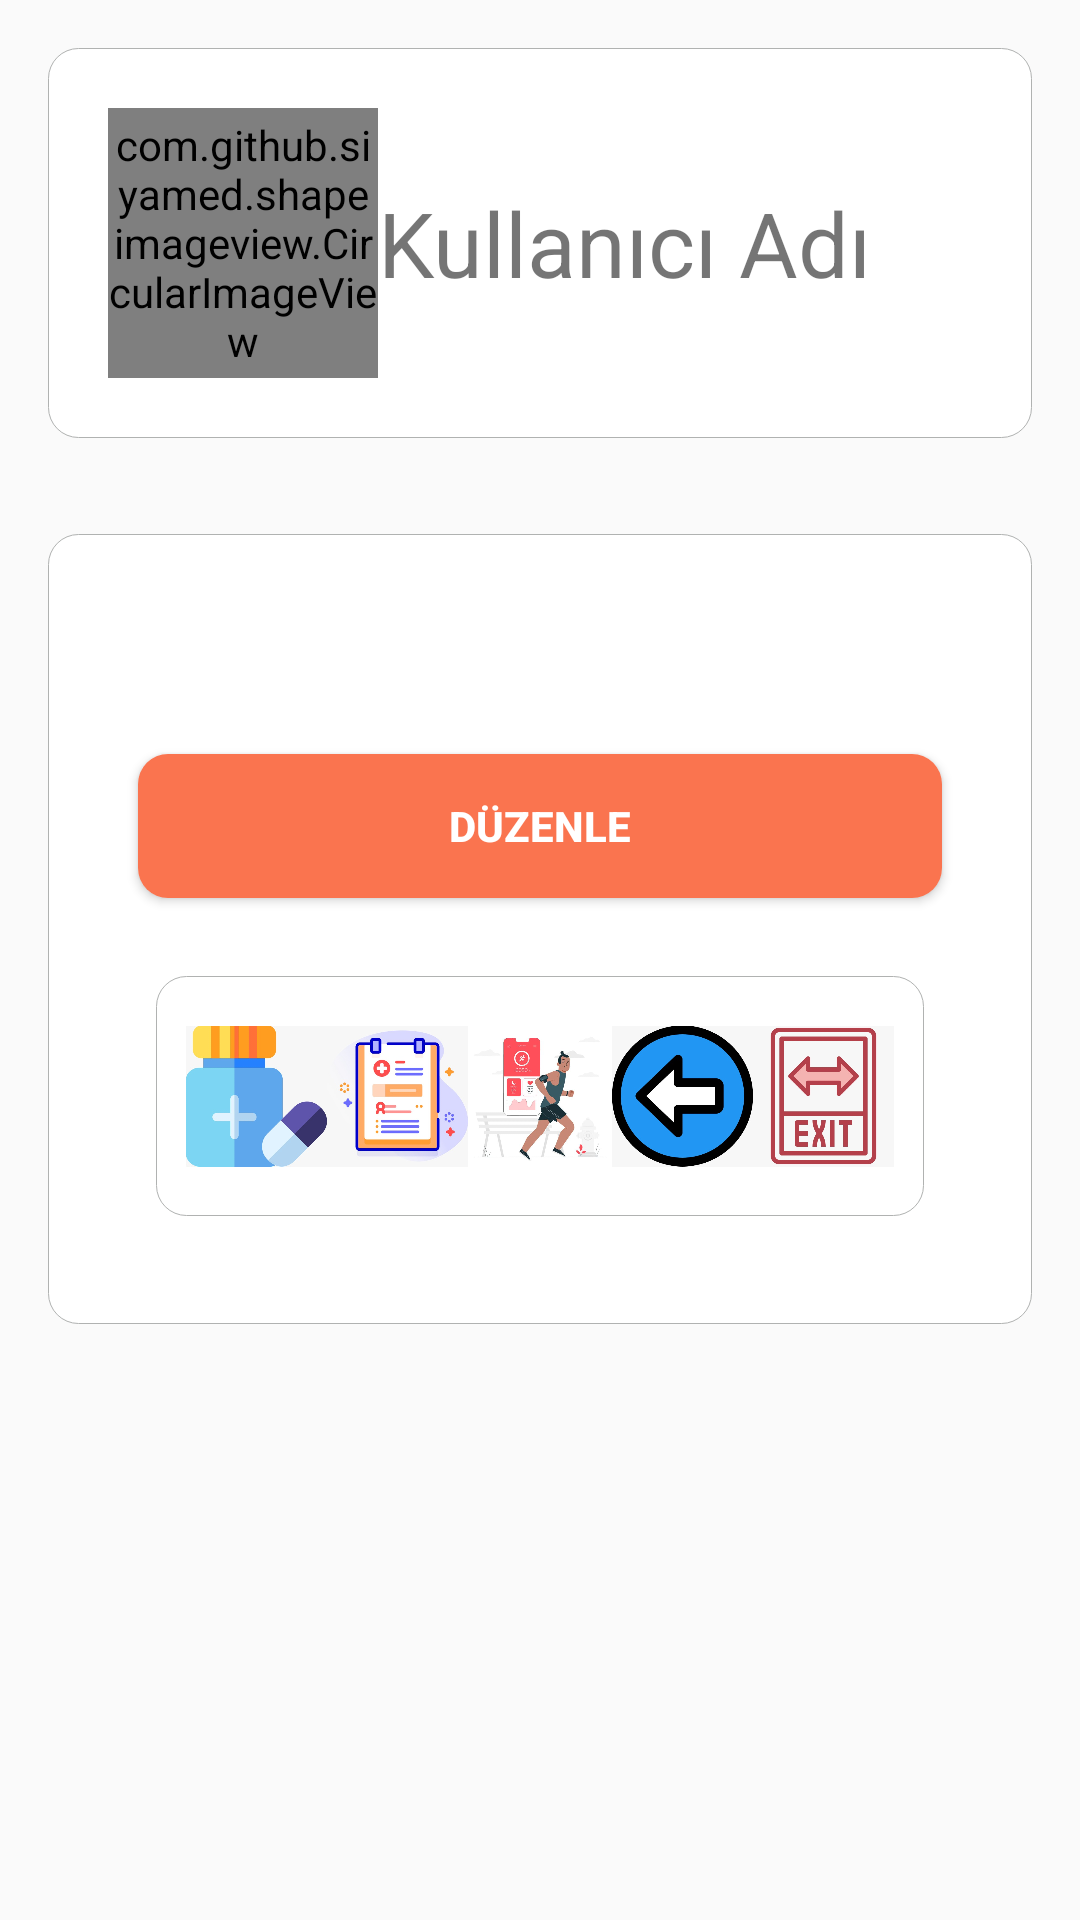

Icons on this 1080x1920 Android screen, each with the point to tap as [x,y]:
imgback: [682,1096]
imgmed: [256,1096]
imgnote: [404,1094]
run: [541,1099]
